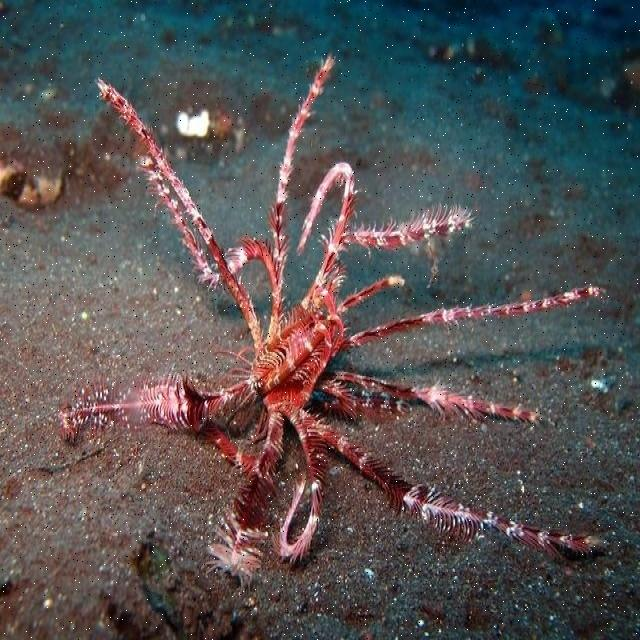reefs: (58, 56, 608, 595)
